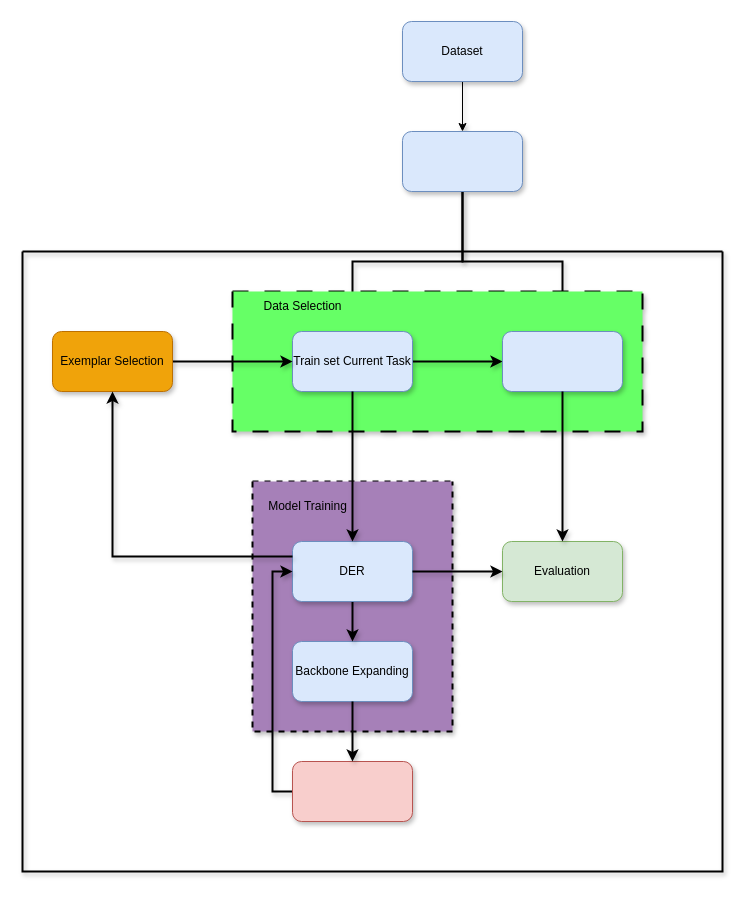
This 746x897 diagram has some shape labels left out. The shapes that lost their labels are listed below. From the top down, each one's centre as x and y in pixels, then its label:
the point at 463,162: Pre-Processing
the point at 563,362: Test Set
the point at 353,792: FC layer Expanding
